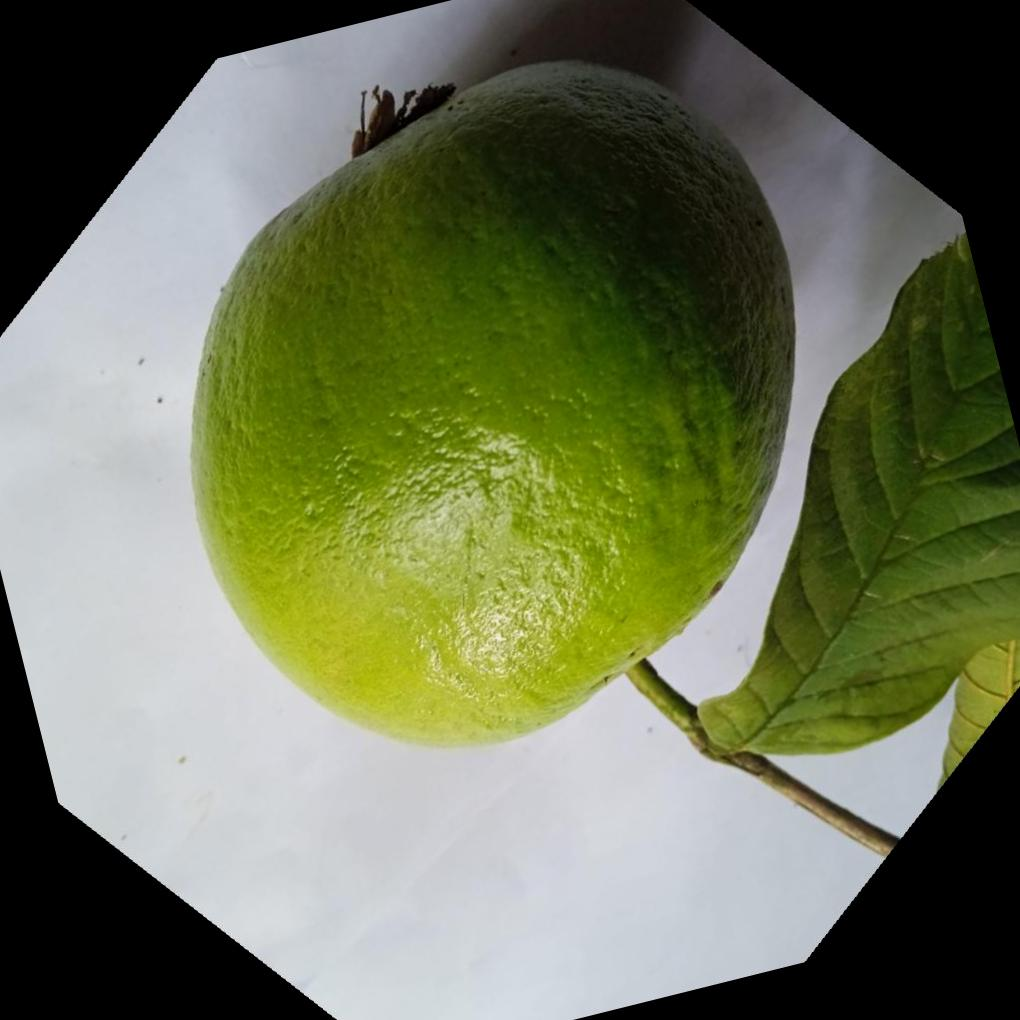FreshGuava: (186, 53, 799, 748)
